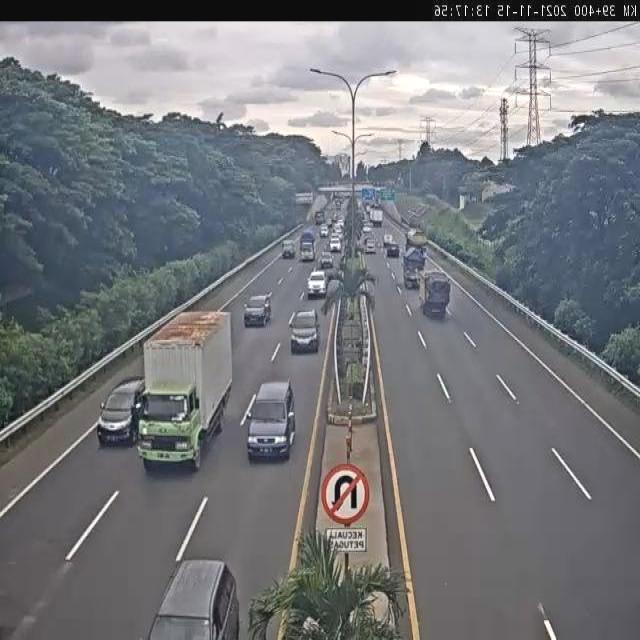Car: (94, 375, 147, 448), (288, 308, 320, 357), (242, 292, 275, 331), (307, 269, 328, 299), (365, 236, 377, 256), (329, 235, 342, 253), (320, 251, 334, 267), (387, 242, 400, 258), (318, 227, 331, 240)
Truck: (140, 307, 234, 475), (420, 264, 451, 323), (402, 245, 426, 287), (405, 228, 430, 256), (298, 231, 316, 267), (281, 238, 297, 262)
Van: (246, 376, 297, 465)
